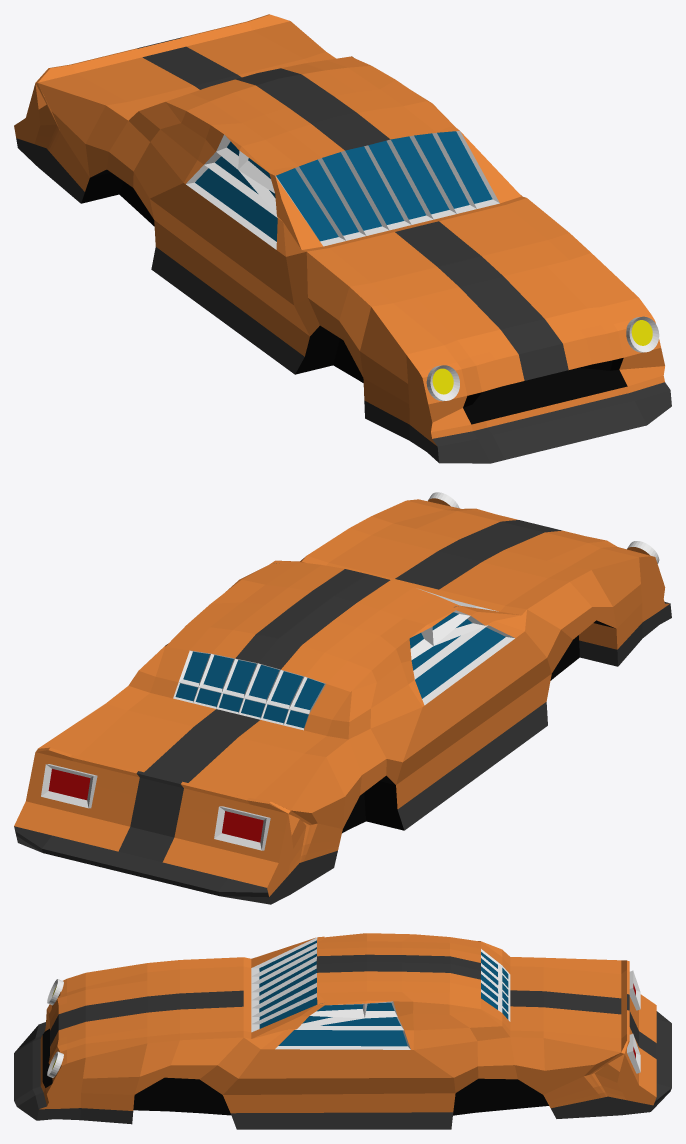
Rendered from first.fbx.
3 renders of one model, top to bottom at view 1: azimuth 30°, elevation 25°; view 2: azimuth 150°, elevation 25°; view 3: azimuth 270°, elevation 25°, orthographic. The views are drawn at different scales.
Visible parts, largest first — view 1: Cube; view 2: Cube; view 3: Cube.
Boxes of the visible parts, x1=… form: Cube: x1=14, y1=14, x2=671, y2=463; Cube: x1=14, y1=492, x2=671, y2=904; Cube: x1=14, y1=933, x2=671, y2=1129.
Bounding box in the file's own units: 181 × 108 × 531.
